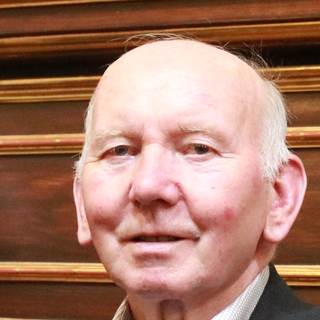eye: (176, 139, 225, 163), (99, 140, 143, 164)
